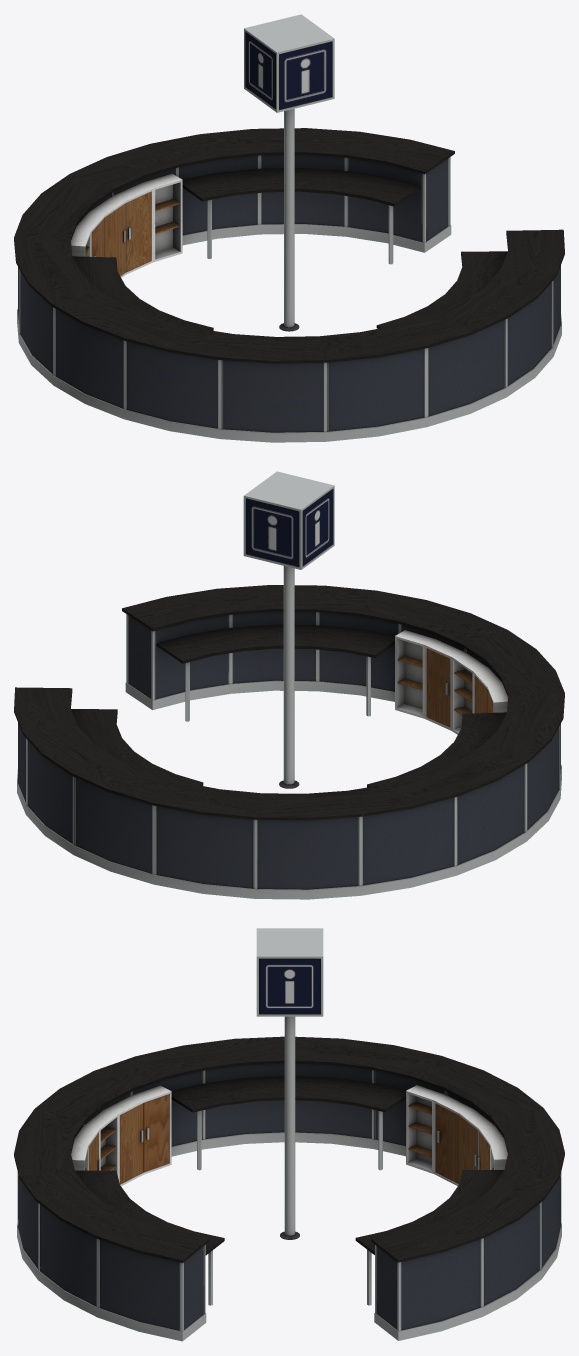
The model's file is info_counter.fbx.
The picture shows the model from 3 angles, top to bottom: view 1: azimuth 30°, elevation 25°; view 2: azimuth 150°, elevation 25°; view 3: azimuth 270°, elevation 25°; orthographic projection.
Visible parts, largest first — view 1: info_counter_0001_1, info_counter_0001_signpost; view 2: info_counter_0001_1, info_counter_0001_signpost; view 3: info_counter_0001_1, info_counter_0001_signpost.
Boxes of the visible parts, <box> form: info_counter_0001_1: <box>14,128,564,442</box>; info_counter_0001_signpost: <box>244,14,334,331</box>; info_counter_0001_1: <box>14,585,564,899</box>; info_counter_0001_signpost: <box>243,471,334,788</box>; info_counter_0001_1: <box>14,1036,564,1341</box>; info_counter_0001_signpost: <box>256,928,323,1239</box>.
Size of the model in its own units: 5.47 by 3.34 by 5.68.
